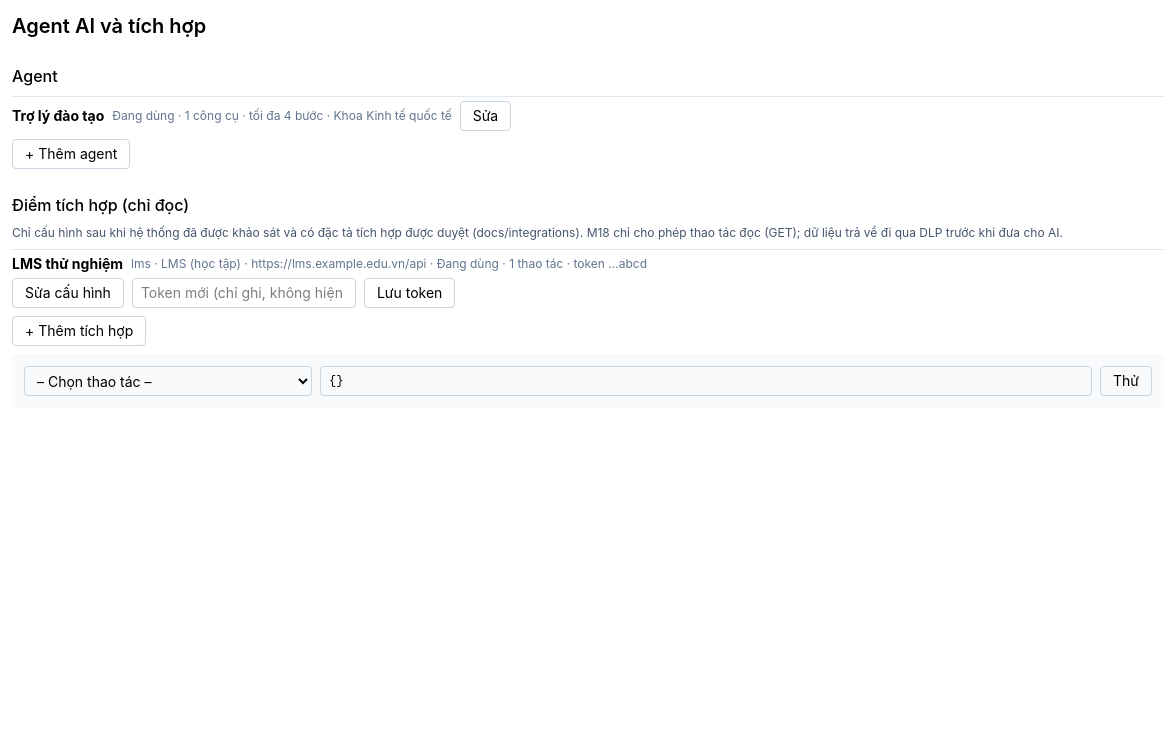
AgentsPage › creates an agent with integration tools
Expected: the element "Agent" shows "Trợ lý đào tạo", 12,107 -> 104,124
Expected: the element "Agent" shows "Khoa Kinh tế quốc tế", 334,108 -> 452,123
Click the button "+ Thêm agent" at x=71, y=154, box 12,139 -> 130,169
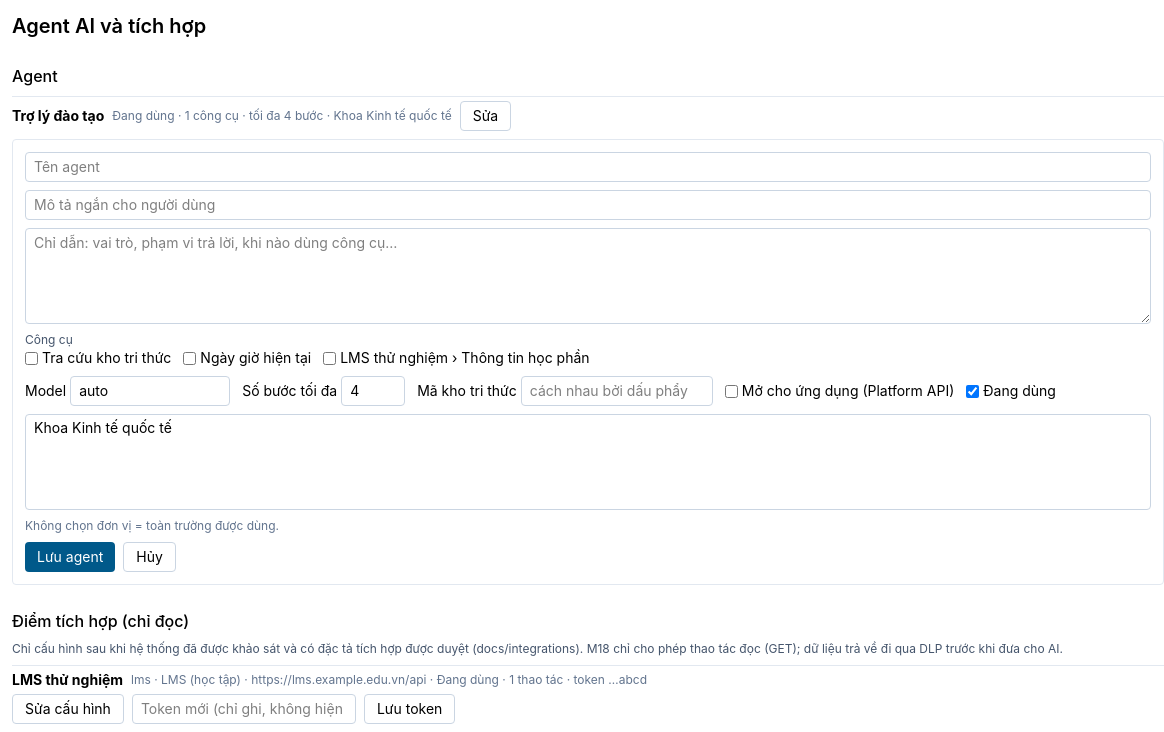
Type "Trợ lý mới" into the field labelled "Tên agent" at x=588, y=167, box 25,152 -> 1151,182
Type "Giúp cán bộ." into the text box labelled "Chỉ dẫn" at x=588, y=276, box 25,228 -> 1151,324
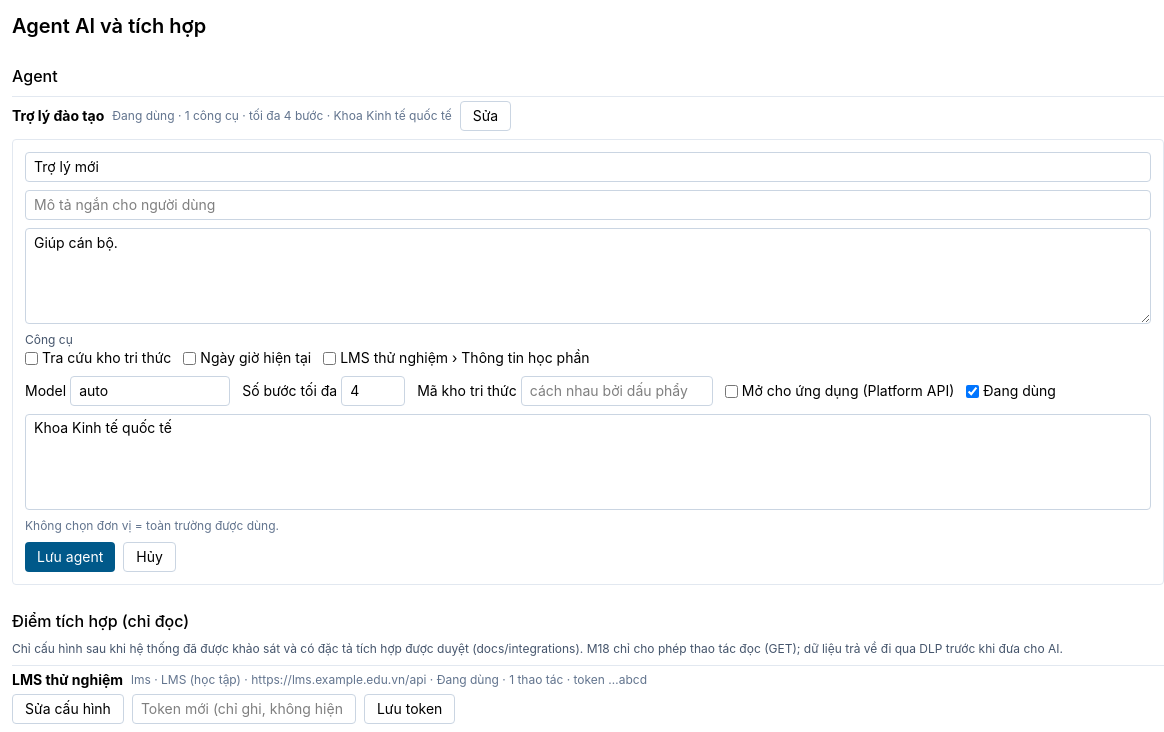
Click the checkbox labelled "LMS thử nghiệm › Thông tin học phần" at x=330, y=358, box 323,352 -> 336,364
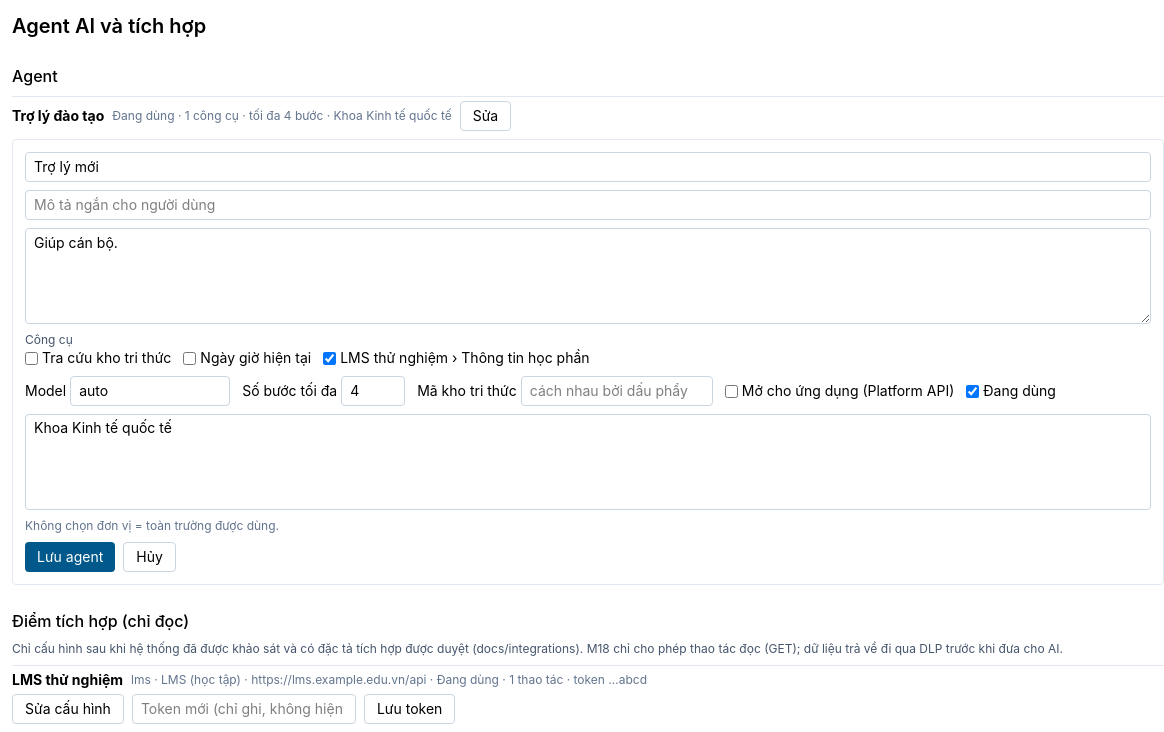
Click the checkbox labelled "Ngày giờ hiện tại" at x=190, y=358, box 183,352 -> 196,364
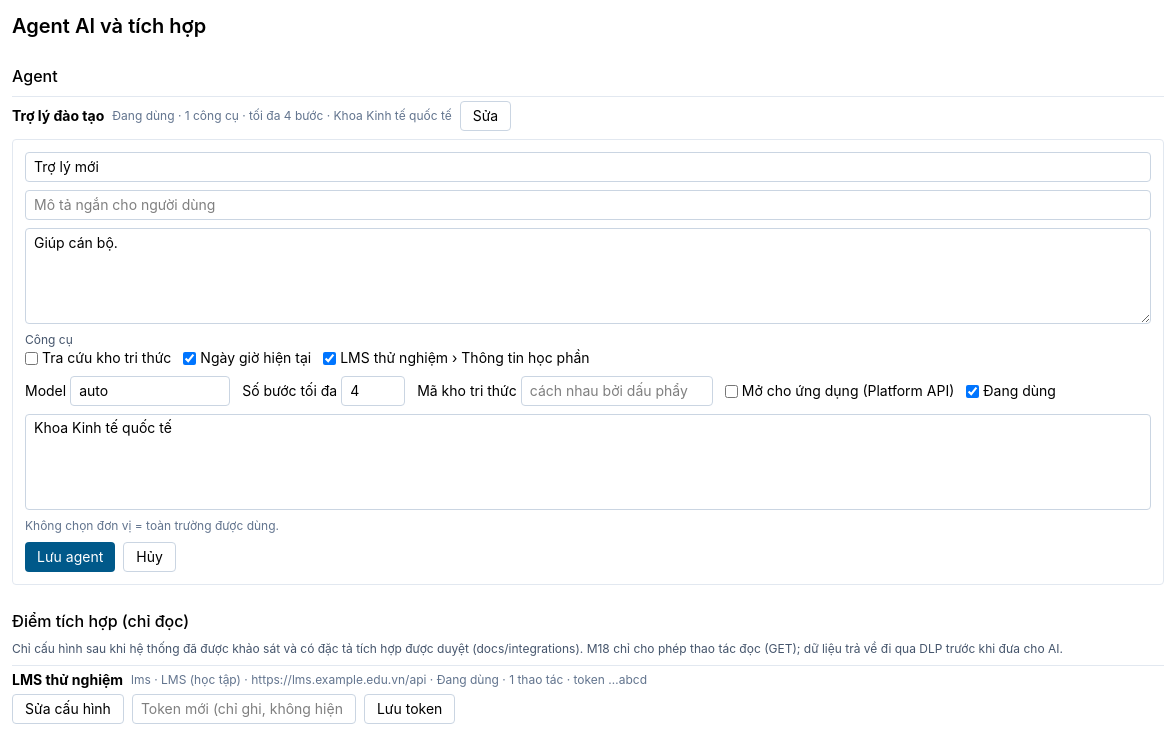
Type "kb1, kb2" into the field labelled "Mã kho tri thức" at x=617, y=391, box 521,376 -> 713,406
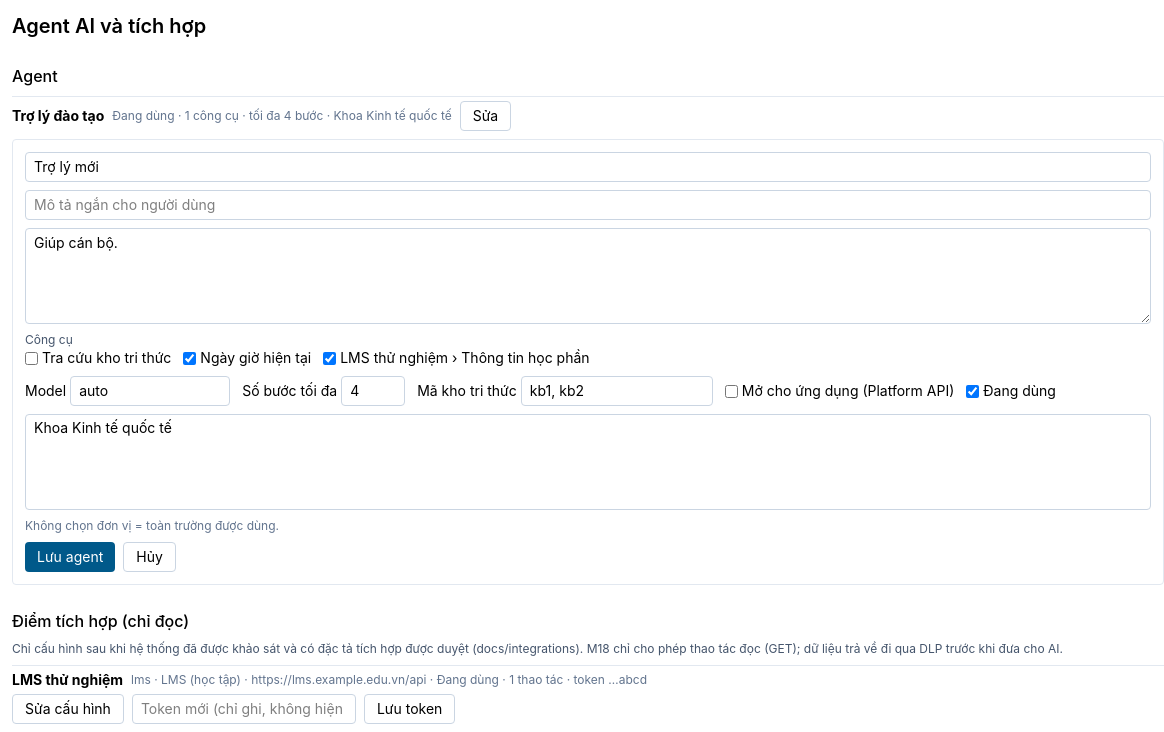
Click the button "Lưu agent" at x=70, y=557, box 25,542 -> 115,572
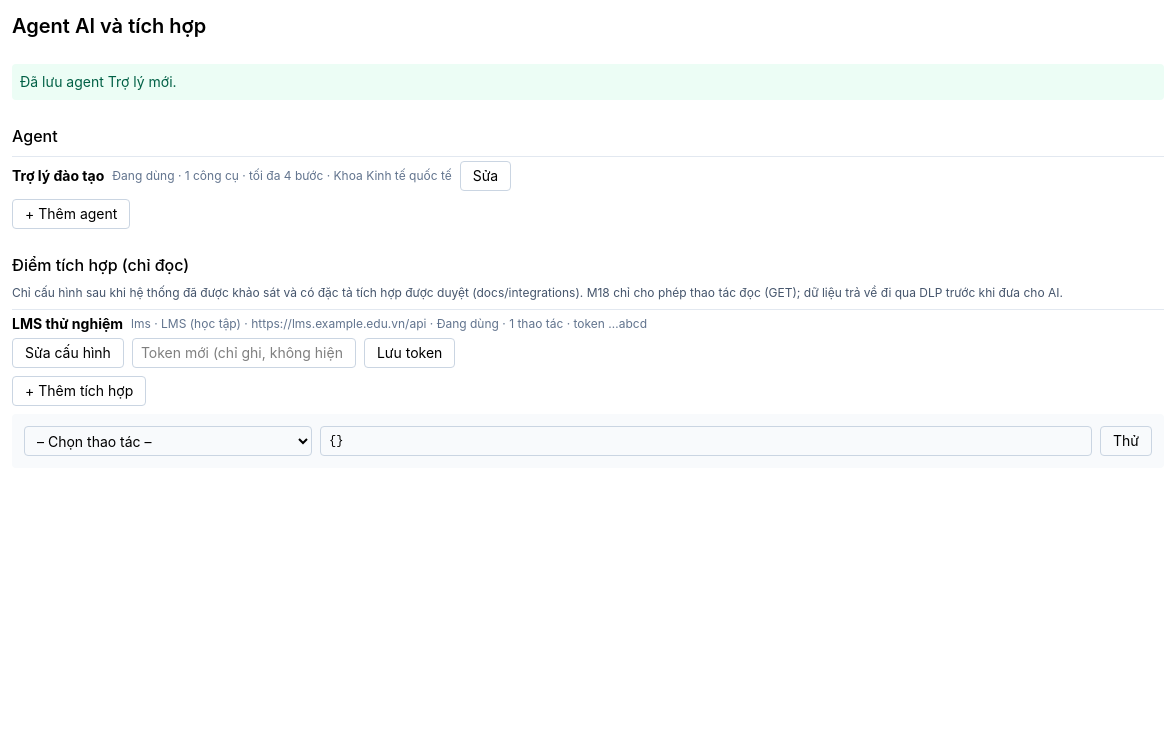
Now the text "Đã lưu agent Trợ lý mới." is shown, box 12,64 -> 1163,100
